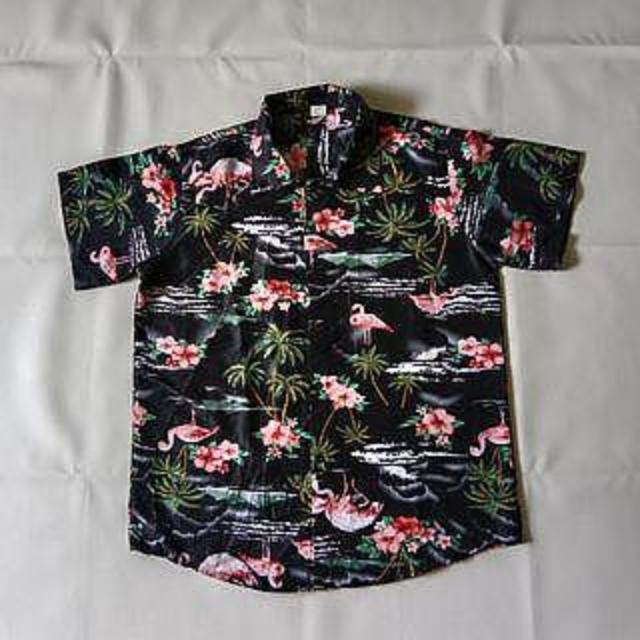SHIRT: (42, 77, 594, 602)
